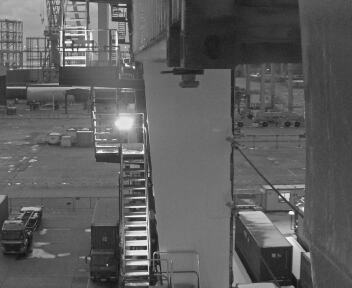twist_lock_1: (168, 62, 210, 94)
